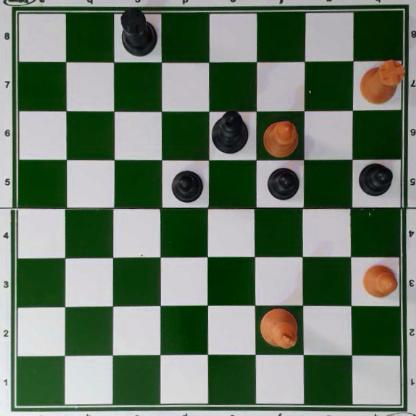black-king: (209, 109, 250, 153)
black-pawn: (358, 160, 394, 196), (169, 169, 204, 203), (267, 165, 299, 201)
black-rook: (119, 7, 158, 57)
white-bishop: (263, 120, 299, 157)
white-king: (259, 305, 298, 349)
white-pawn: (360, 263, 397, 299)
white-rook: (360, 59, 403, 104)
